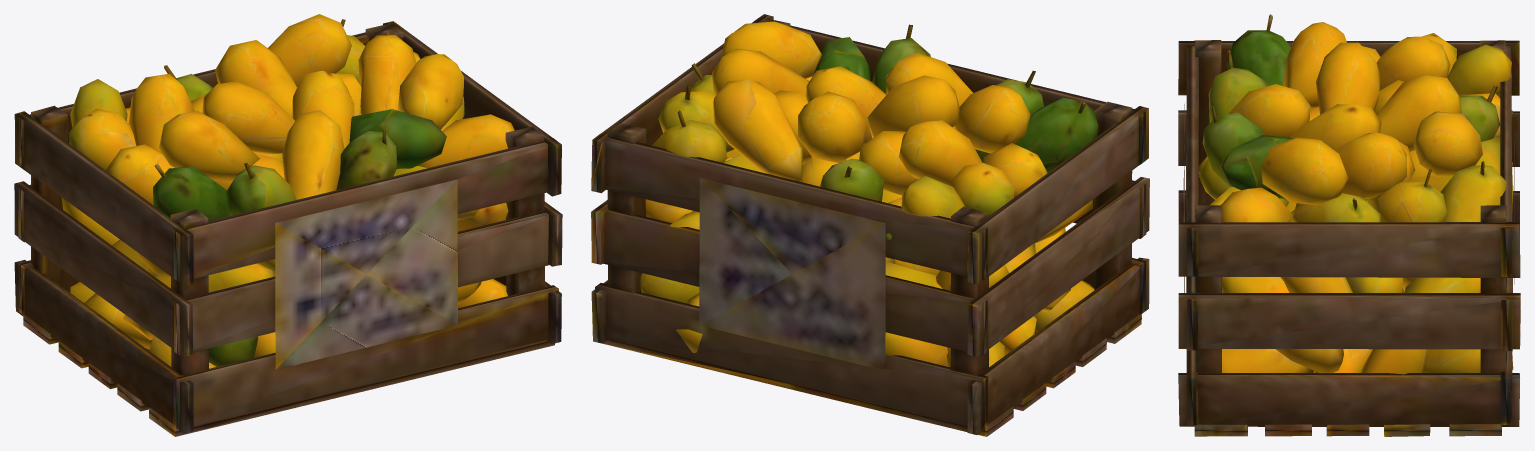
File: mango-crate.glb
3 renders of one model, left to right at view 1: azimuth 30°, elevation 25°; view 2: azimuth 150°, elevation 25°; view 3: azimuth 270°, elevation 25°, orthographic.
Parts seen in each view (by area): view 1: geometry_0; view 2: geometry_0; view 3: geometry_0.
Part boxes in pixels (bbox=[...]): geometry_0: bbox=[14, 14, 562, 436]; geometry_0: bbox=[591, 14, 1149, 436]; geometry_0: bbox=[1178, 14, 1520, 436].
Size of the model in its own units: 1 by 0.6667 by 0.7729.
Materials: 1 (1 with a texture image).
